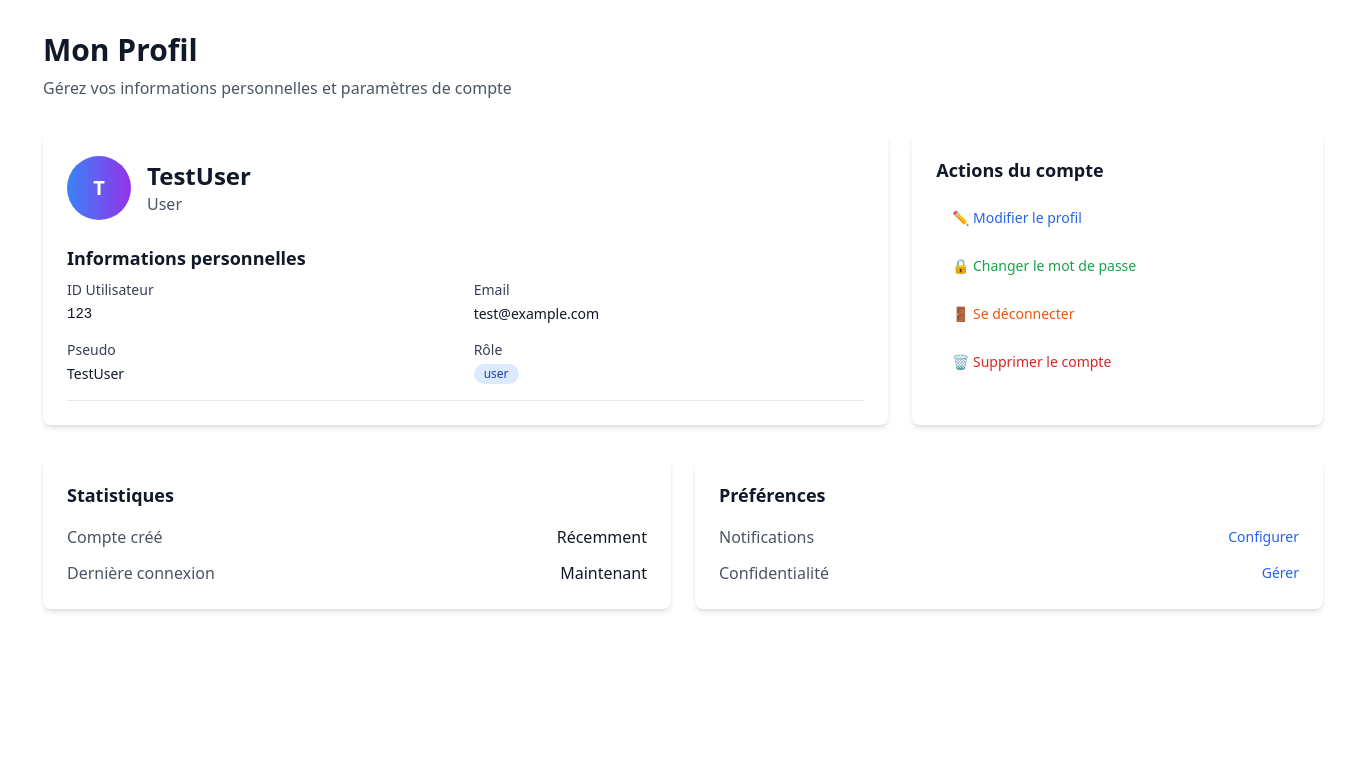
Test case: Profile Page › Profile Actions › should show warning toast for development features
Click the button "✏️ Modifier le profil" at [1017, 218], box [936,200,1299,236]
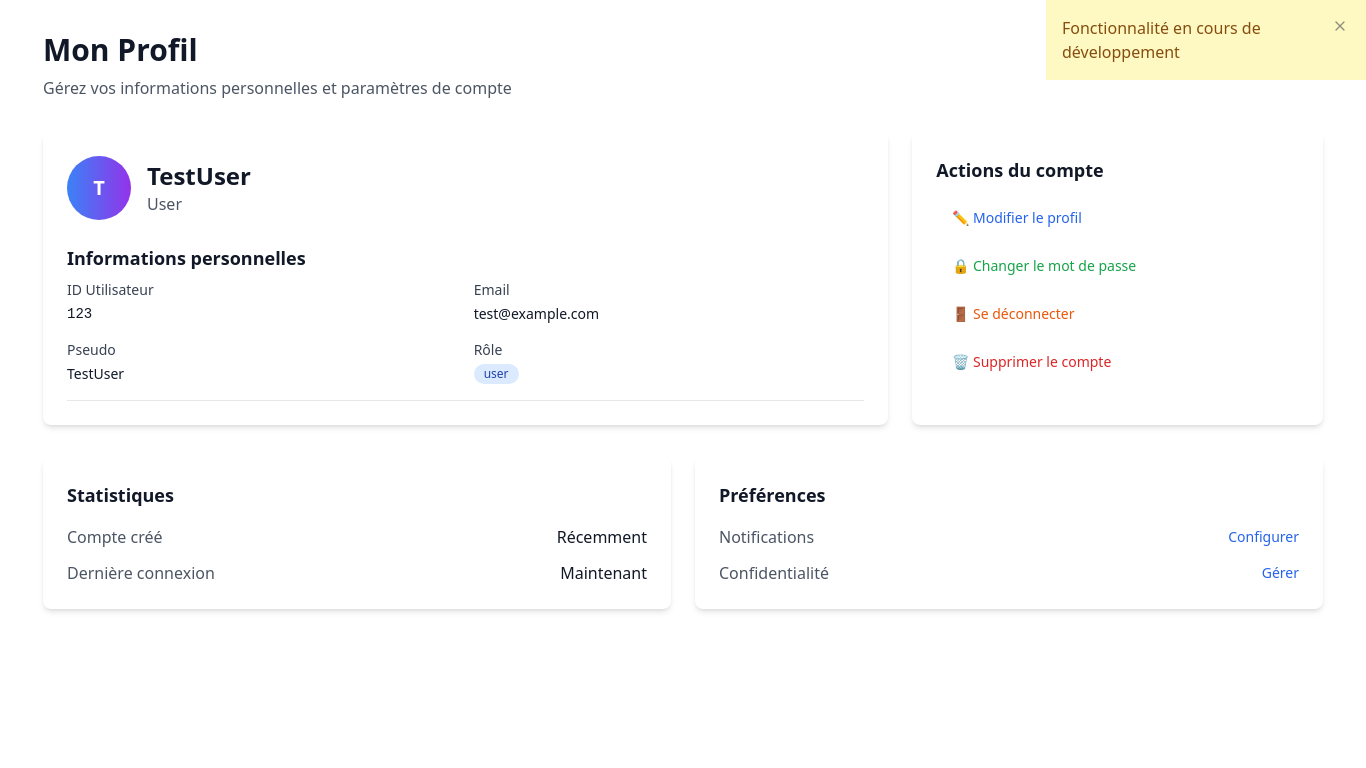
Check: the text "Fonctionnalité en cours de développement" is shown, box [1062,16,1350,63]
